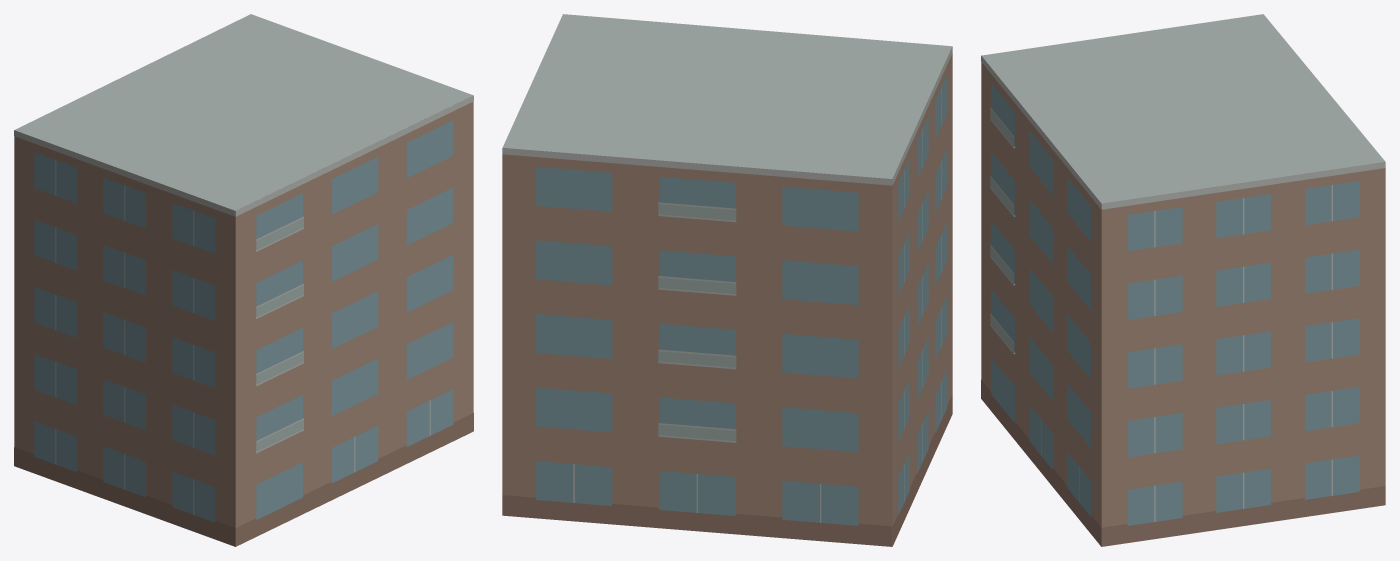
The model's file is survey-upis-32709129.glb.
3 renders of one model, left to right at view 1: azimuth 30°, elevation 25°; view 2: azimuth 150°, elevation 25°; view 3: azimuth 270°, elevation 25°, orthographic. The views are drawn at different scales.
Visible parts, largest first — view 1: survey-upis-32709129.tmp; view 2: survey-upis-32709129.tmp; view 3: survey-upis-32709129.tmp.
Part boxes in pixels (<box>): survey-upis-32709129.tmp: <box>14,14,473,546</box>; survey-upis-32709129.tmp: <box>502,14,952,546</box>; survey-upis-32709129.tmp: <box>981,14,1385,546</box>.
Bounding box in the file's own units: 16.24 × 13.7 × 14.64.
